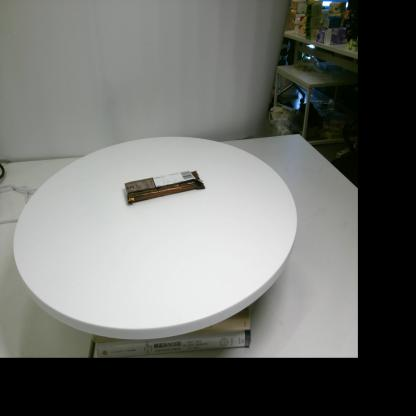Chocolate: (124, 170, 206, 204)
